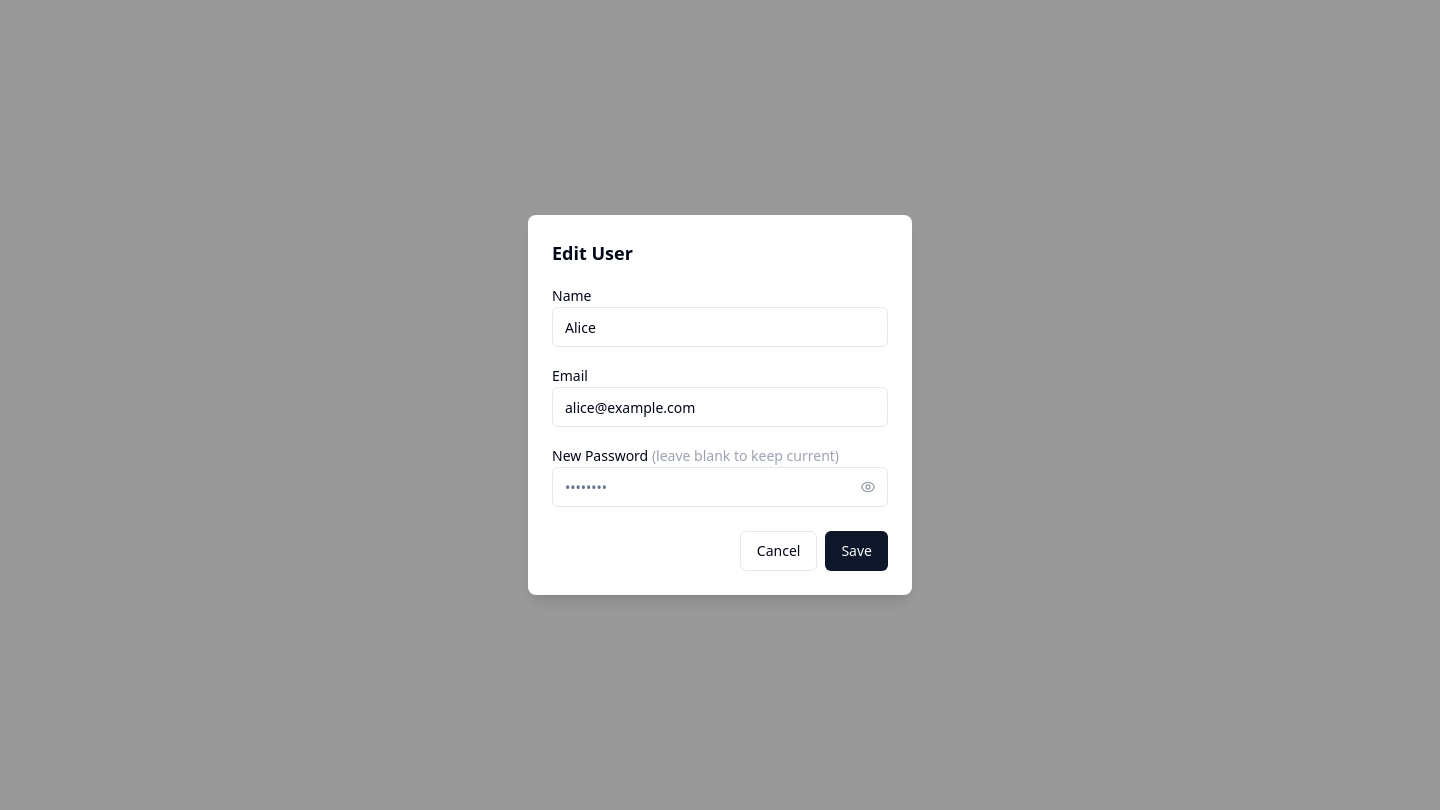
Scenario: EditUserModal › validation › shows error when name is less than 3 characters
The image size is (1440, 810).
Replace the text in the field labelled "Name" with "ab" at x=720, y=327, box [552,307,888,347]
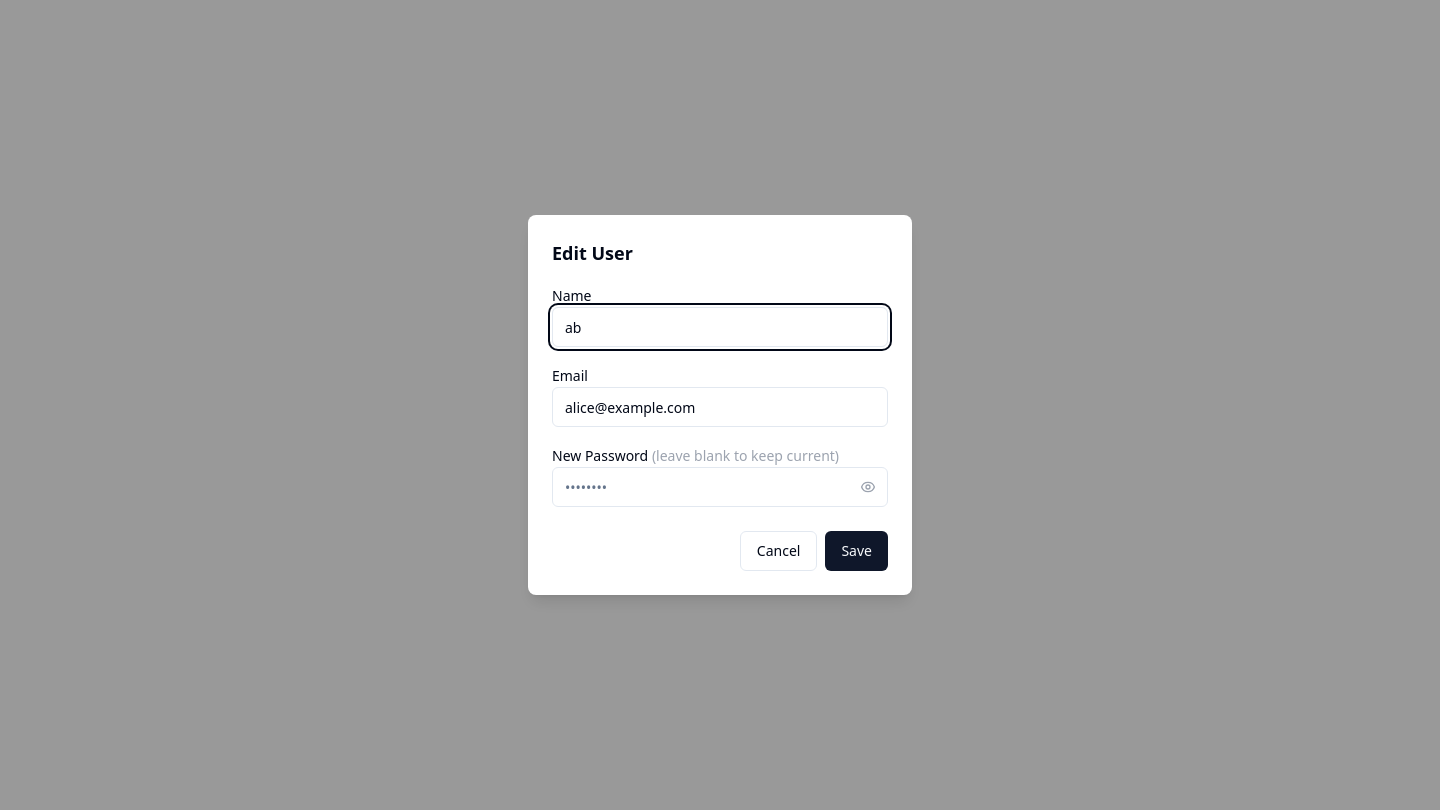
Click the button "Save" at x=857, y=551, box [825,531,888,571]
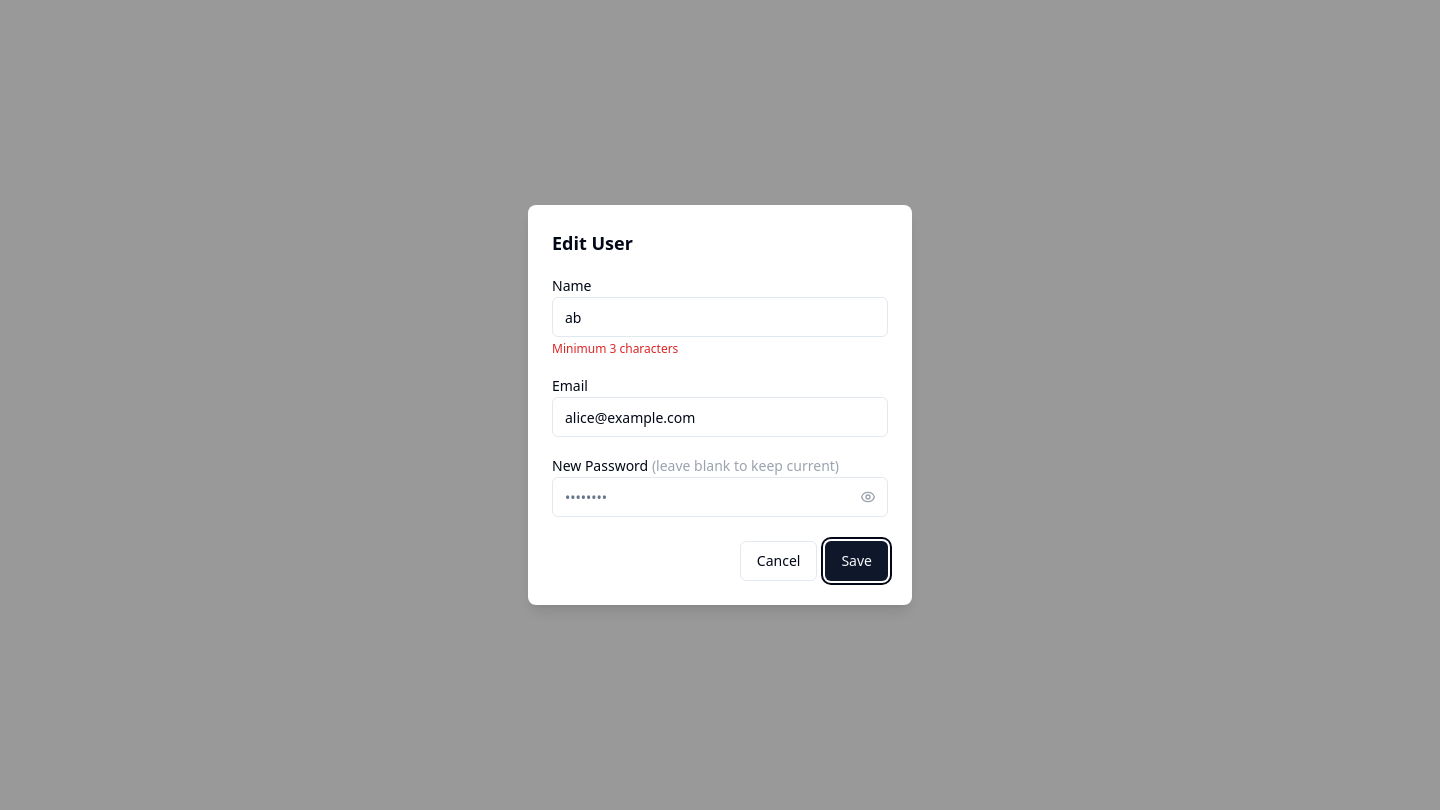
Result: the text "Minimum 3 characters" is shown at [552,340,678,357]
